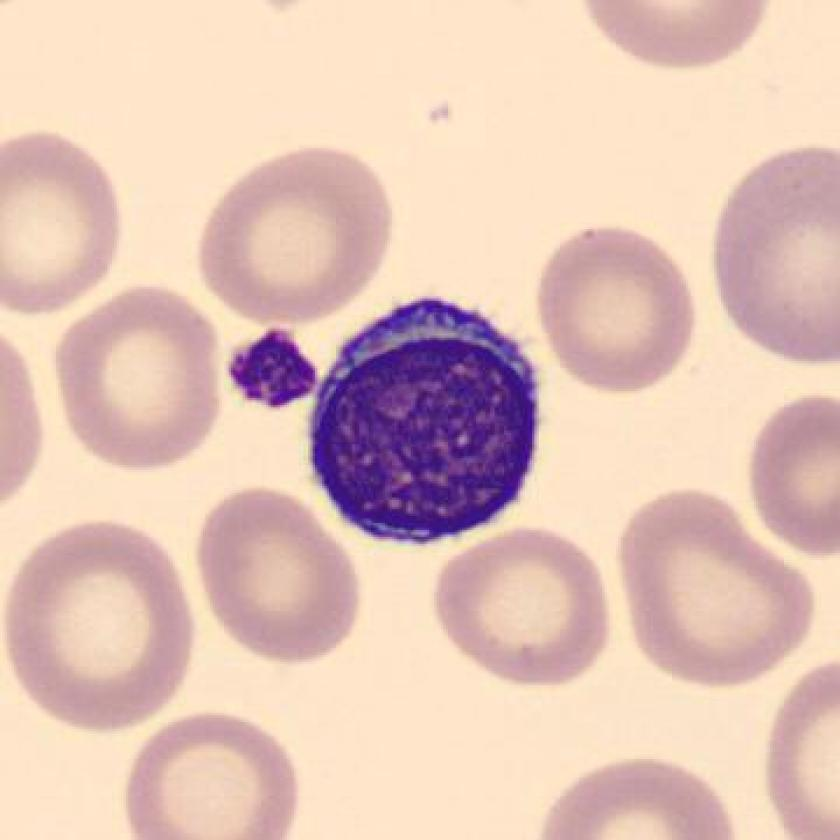lymphocyte: (295, 281, 561, 561)
